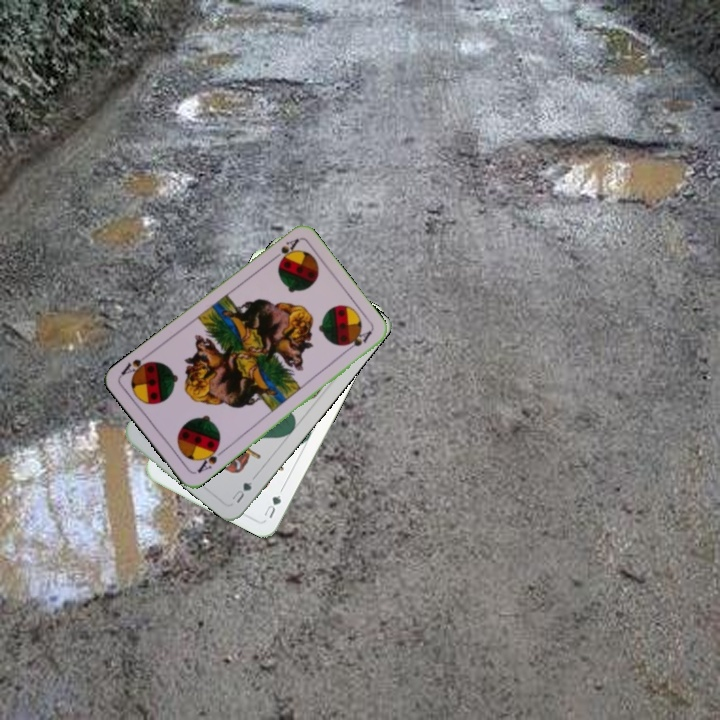GU: (228, 478, 255, 506), (260, 491, 284, 521)
SA: (193, 442, 226, 476), (267, 234, 302, 266)
